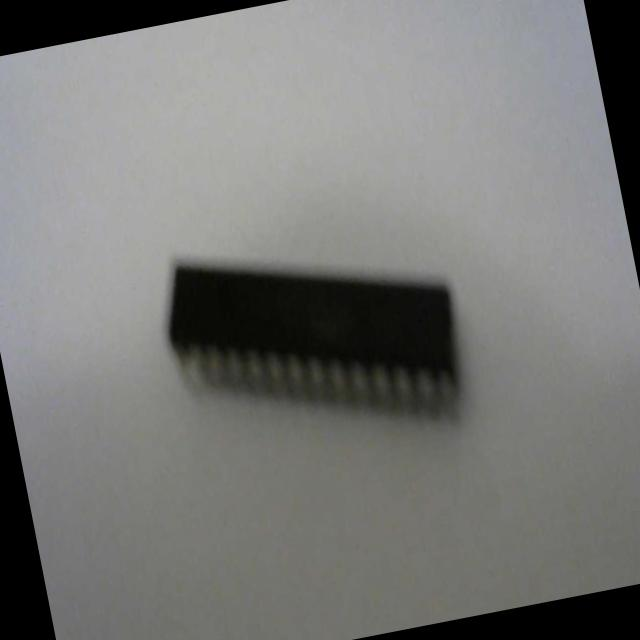atmega: (150, 202, 477, 473)
